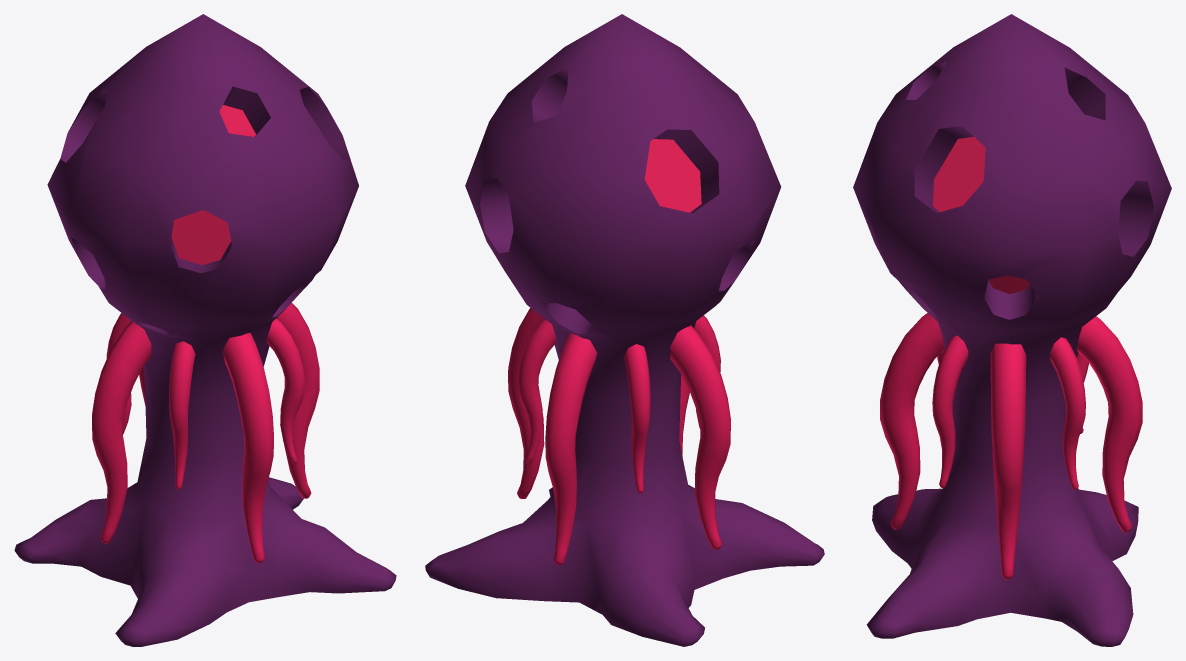
Rendered from Plant_6_purple.fbx.
3 renders of one model, left to right at view 1: azimuth 30°, elevation 25°; view 2: azimuth 150°, elevation 25°; view 3: azimuth 270°, elevation 25°, orthographic.
Parts seen in each view (by area): view 1: Plant_6_purple; view 2: Plant_6_purple; view 3: Plant_6_purple.
Part boxes in pixels (box(x1,y1,x2,y2)): Plant_6_purple: box(14, 14, 396, 646); Plant_6_purple: box(425, 14, 824, 646); Plant_6_purple: box(853, 14, 1171, 646).
Bounding box in the file's own units: 1.86 × 3.43 × 1.76.
